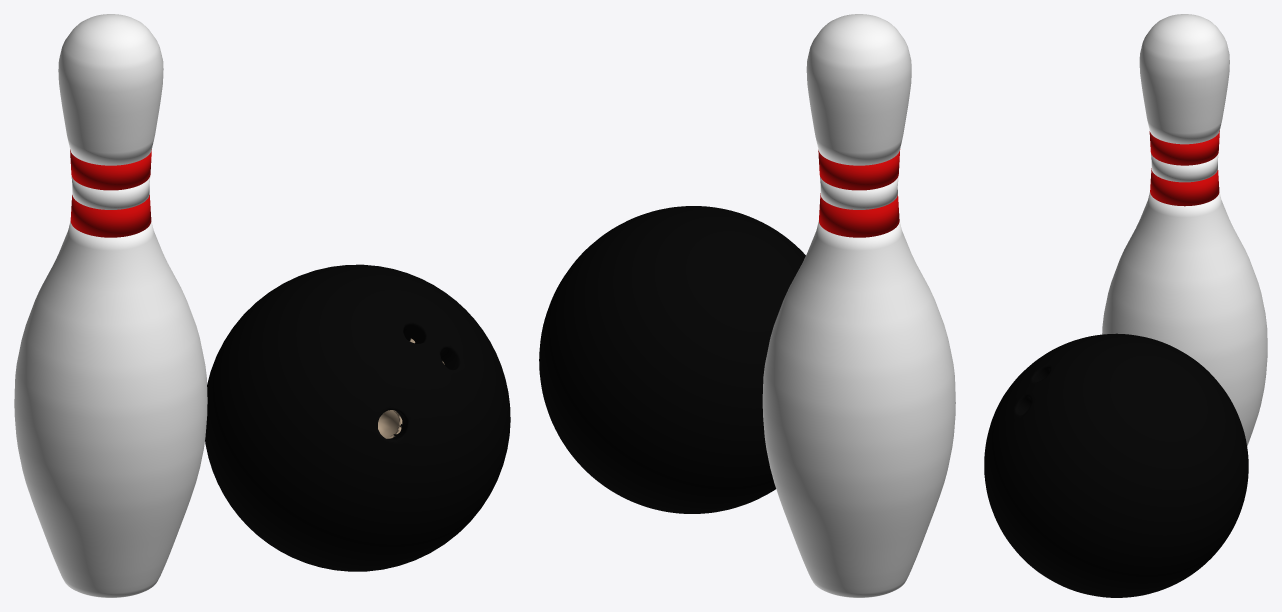
The model's file is Bowling 1.fbx.
The picture shows the model from 3 angles, left to right: view 1: azimuth 30°, elevation 25°; view 2: azimuth 150°, elevation 25°; view 3: azimuth 270°, elevation 25°; orthographic projection. The views are drawn at different scales.
Parts seen in each view (by area): view 1: rings, ball; view 2: rings, ball; view 3: ball, rings.
Part boxes in pixels (x1,y1,x2,y2): rings: [14, 14, 207, 597]; ball: [205, 264, 510, 571]; rings: [762, 14, 955, 597]; ball: [539, 206, 805, 513]; ball: [984, 333, 1248, 597]; rings: [1102, 14, 1267, 446].
Bounding box in the file's own units: 164 × 208 × 111.
